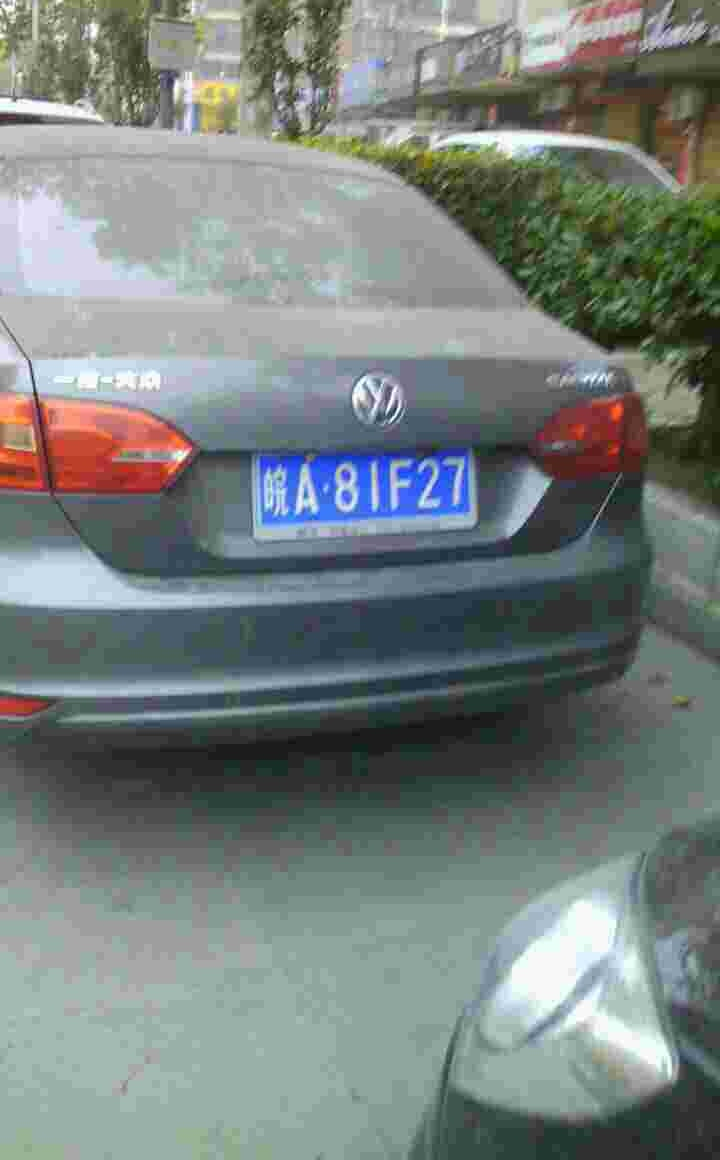plate: (263, 442, 478, 530)
